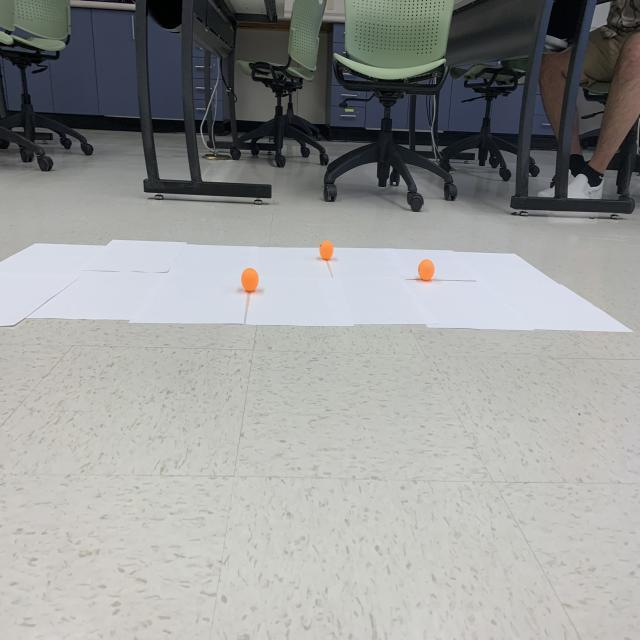ping-pong-ball: (240, 266, 260, 292), (418, 258, 436, 282), (318, 240, 334, 262)
